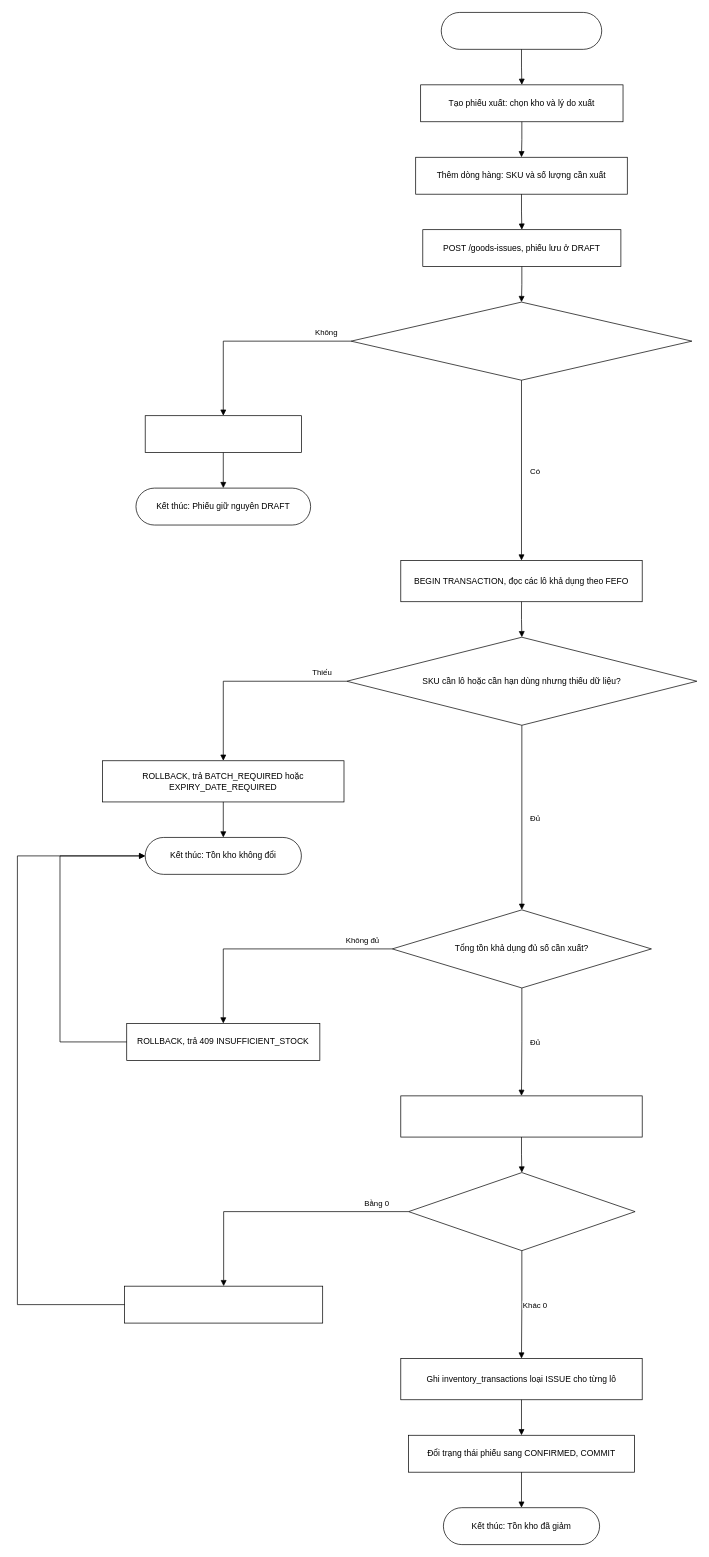
Some shapes in this 709 by 1557 pixel diagram are drawn without their labels. Each missing label, with the centre of its shape:
Bắt đầu: Có nhu cầu xuất hàng: [521,30]
Người xác nhận có quyền goods_issues:confirm?: [521,340]
ROLLBACK, trả CONCURRENT_STOCK_UPDATE: [223,1304]
Số dòng bị ảnh hưởng bằng 0?: [521,1211]
Trả 403 FORBIDDEN: [222,434]
Trừ tồn từng lô bằng UPDATE có điều kiện quantity trừ reserved: [521,1116]
